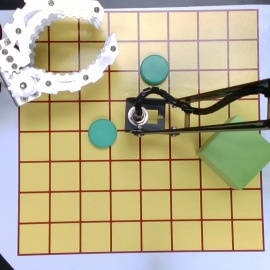green: (139, 54, 170, 84), (88, 119, 118, 148)
